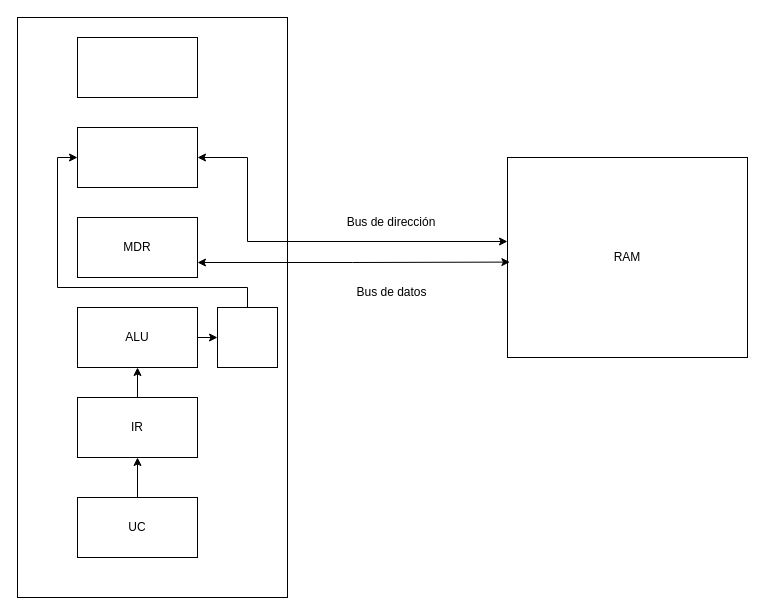
Some shapes in this 765 by 615 pixel diagram are drawn without their labels. Here are the shapes that lost their labels. From the top down, the box of each, then its label:
(76, 36, 198, 98): PC
(76, 126, 198, 188): MAR
(216, 306, 278, 368): Registros
